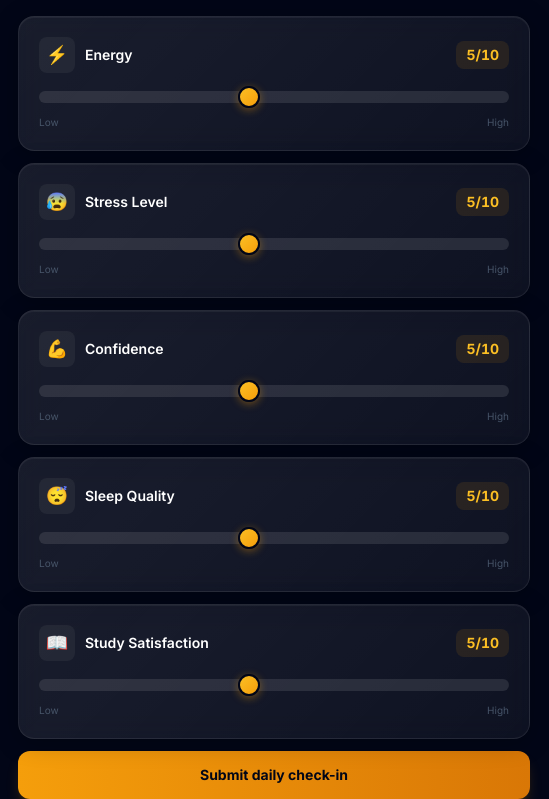
Test: CheckInPage › shows thank you message after successful submit
(page scrolled)
What coordinates should you click on to do the following:
click the button "Submit daily check-in"
I would click on:
 (274, 775)
Its box is x1=18 y1=751 x2=530 y2=798.
(page scrolled)
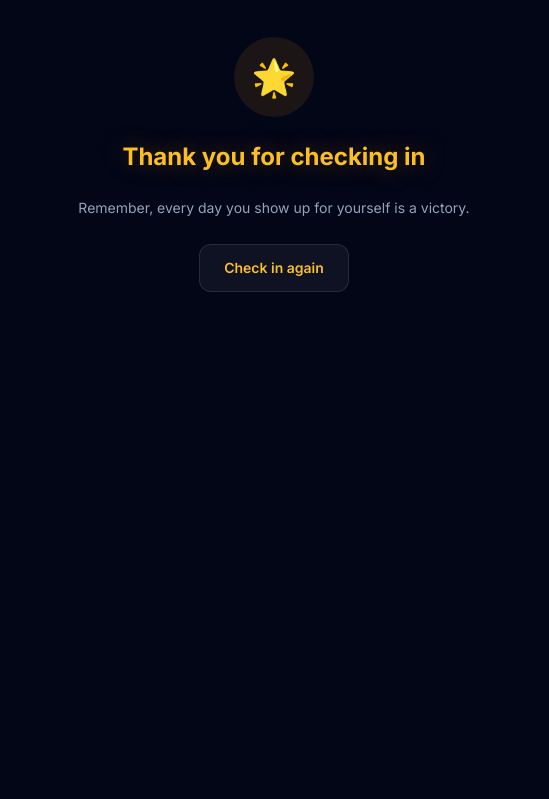
Expected: the heading "Thank you for checking in" is shown, x1=122 y1=142 x2=426 y2=171
